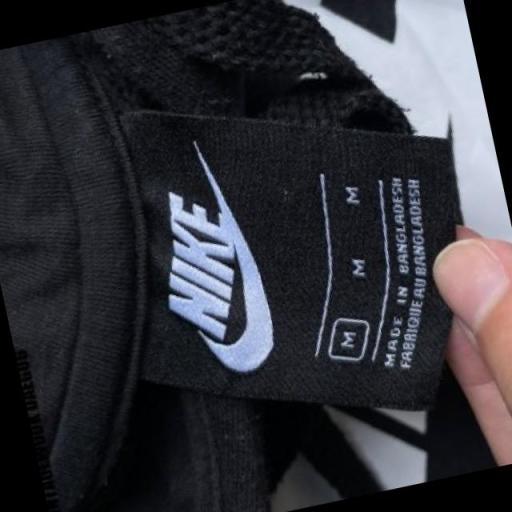Nike: (192, 188, 285, 380), (148, 178, 248, 348)
